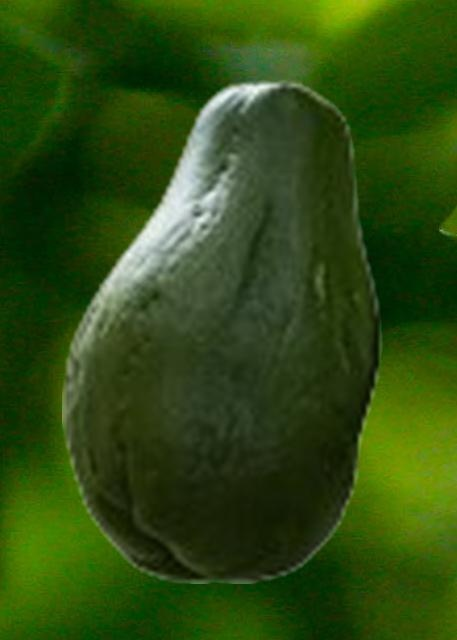sayote: (62, 79, 381, 582)
